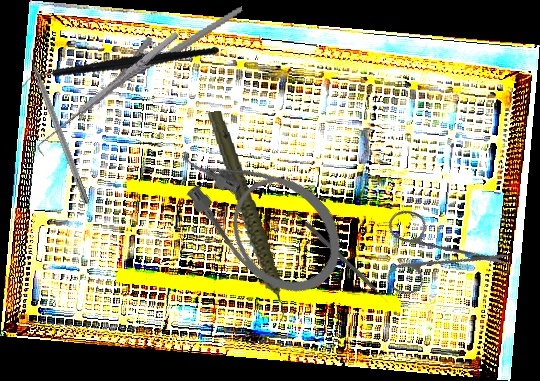Cannula: (159, 110, 363, 313)
Chopper: (18, 8, 220, 128)
Handpiece: (205, 106, 289, 328)
Hook Surgical: (32, 29, 185, 157), (20, 37, 92, 206)
Iris Scissors: (356, 175, 515, 333)
Needle Holder: (80, 6, 257, 106)
Pusher: (303, 220, 390, 306)
